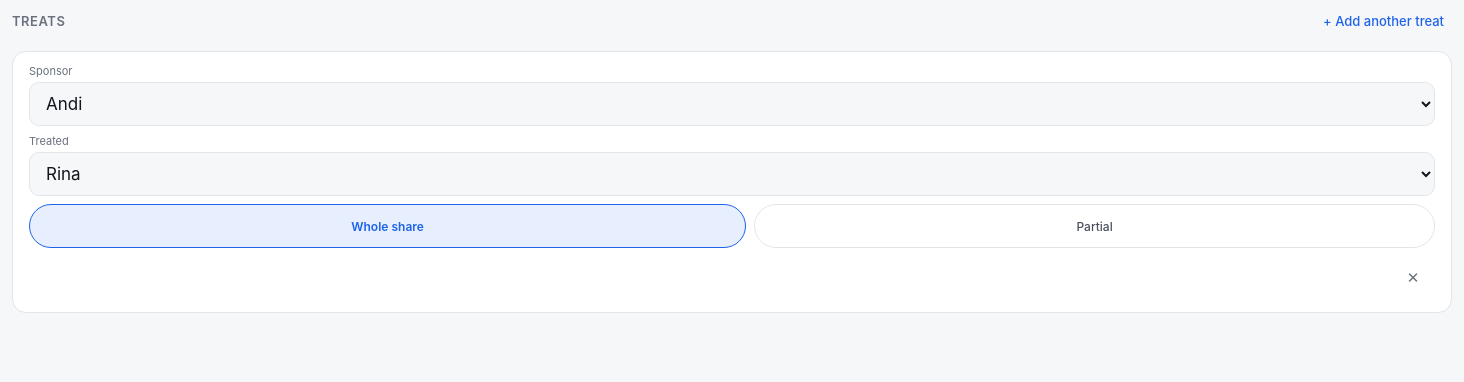
it: TreatEditor › shows a money input for the partial amount only in partial mode
This screenshot has width=1464, height=382.
Check: the field labelled "Treat amount" is not shown
Click the button "Partial" at (1095, 226), box x1=754 y1=204 x2=1435 y2=248
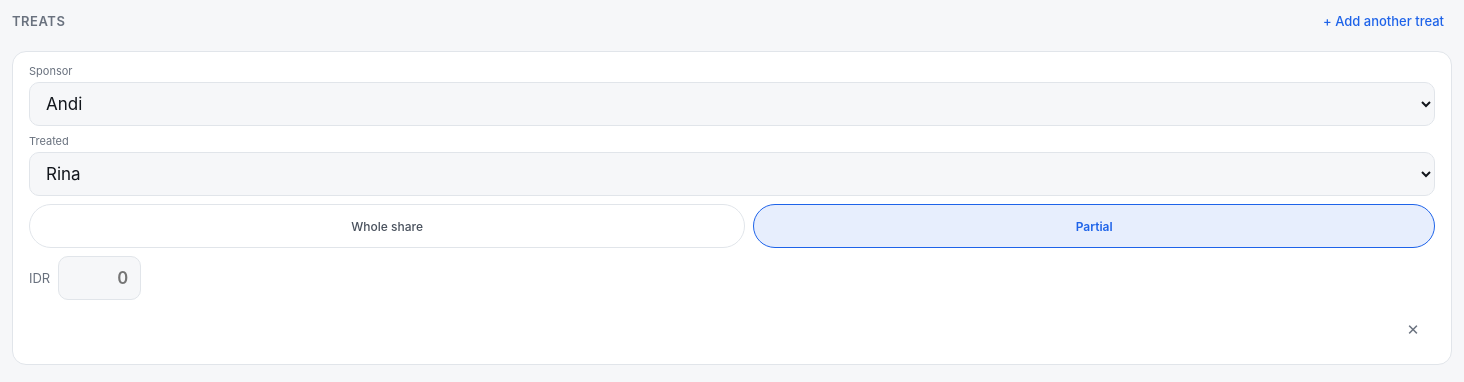
Check: the field named "Treat amount" is shown, box x1=58 y1=256 x2=141 y2=300
